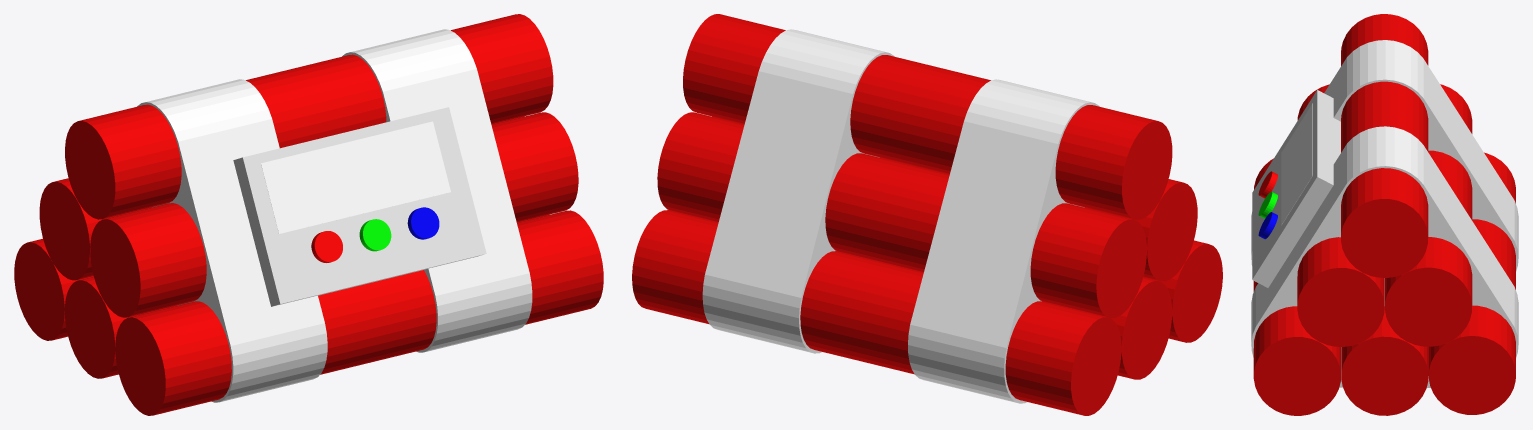
File: Boom_Box.fbx
3 renders of one model, left to right at view 1: azimuth 30°, elevation 25°; view 2: azimuth 150°, elevation 25°; view 3: azimuth 270°, elevation 25°, orthographic. The views are drawn at different scales.
Parts seen in each view (by area): view 1: Cylinder.006, Cylinder.002, Cylinder, Cube, Cylinder.001, Cube.001, Cylinder.004, Cylinder.003, Cylinder.005, Cylinder.009, Cylinder.008, Cylinder.007; view 2: Cylinder.006, Cylinder, Cylinder.005, Cylinder.004, Cylinder.001, Cylinder.002, Cylinder.003; view 3: Cylinder.006, Cylinder, Cylinder.004, Cylinder.005, Cylinder.001, Cylinder.002, Cube, Cylinder.003, Cube.001, Cylinder.009, Cylinder.007, Cylinder.008.
Part boxes in pixels (left/top/right/bottom): Cylinder.006: left=137, top=29, right=532, bottom=402; Cylinder.002: left=115, top=210, right=603, bottom=415; Cylinder: left=65, top=14, right=553, bottom=219; Cube: left=233, top=107, right=486, bottom=306; Cylinder.001: left=90, top=112, right=578, bottom=317; Cube.001: left=261, top=121, right=450, bottom=233; Cylinder.004: left=39, top=116, right=523, bottom=280; Cylinder.003: left=64, top=214, right=549, bottom=378; Cylinder.005: left=14, top=238, right=93, bottom=340; Cylinder.009: left=407, top=207, right=439, bottom=239; Cylinder.008: left=359, top=219, right=391, bottom=251; Cylinder.007: left=311, top=231, right=342, bottom=262; Cylinder.006: left=702, top=29, right=1099, bottom=403; Cylinder: left=683, top=14, right=1172, bottom=219; Cylinder.005: left=632, top=210, right=1121, bottom=415; Cylinder.004: left=657, top=112, right=1146, bottom=318; Cylinder.001: left=712, top=116, right=1197, bottom=281; Cylinder.002: left=1143, top=240, right=1222, bottom=342; Cylinder.003: left=1111, top=277, right=1172, bottom=379; Cylinder.006: left=1251, top=40, right=1518, bottom=387; Cylinder: left=1341, top=14, right=1428, bottom=277; Cylinder.004: left=1385, top=84, right=1472, bottom=346; Cylinder.005: left=1428, top=152, right=1515, bottom=414; Cylinder.001: left=1297, top=84, right=1384, bottom=346; Cylinder.002: left=1253, top=158, right=1340, bottom=415; Cube: left=1252, top=90, right=1340, bottom=287; Cylinder.003: left=1341, top=306, right=1428, bottom=415; Cube.001: left=1281, top=103, right=1312, bottom=225; Cylinder.009: left=1258, top=212, right=1277, bottom=239; Cylinder.007: left=1258, top=171, right=1277, bottom=198; Cylinder.008: left=1258, top=191, right=1277, bottom=218.
Size of the model in its own units: 364 by 203 by 222.
